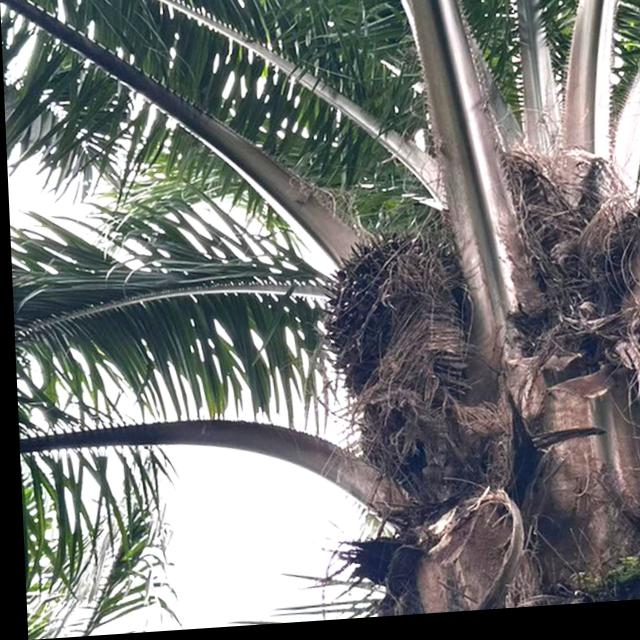almost: (311, 235, 448, 422)
